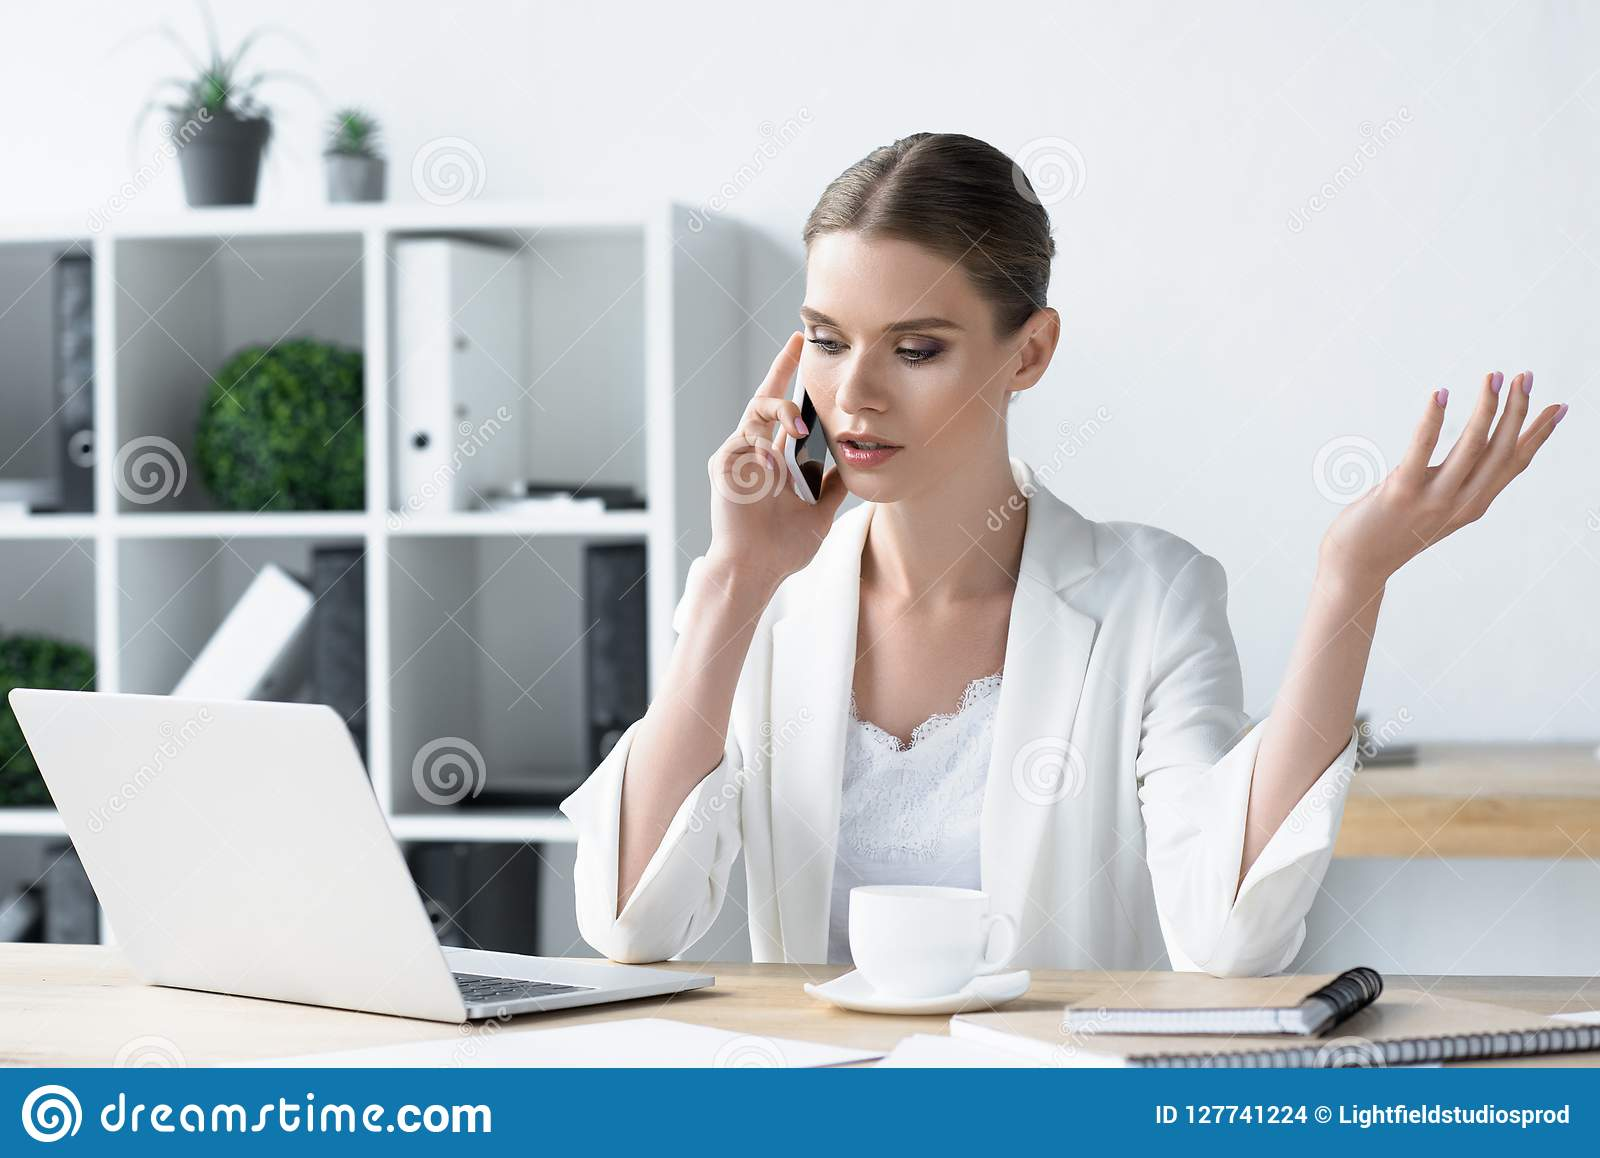phone: (775, 367, 832, 521)
talk: (702, 289, 980, 613)
